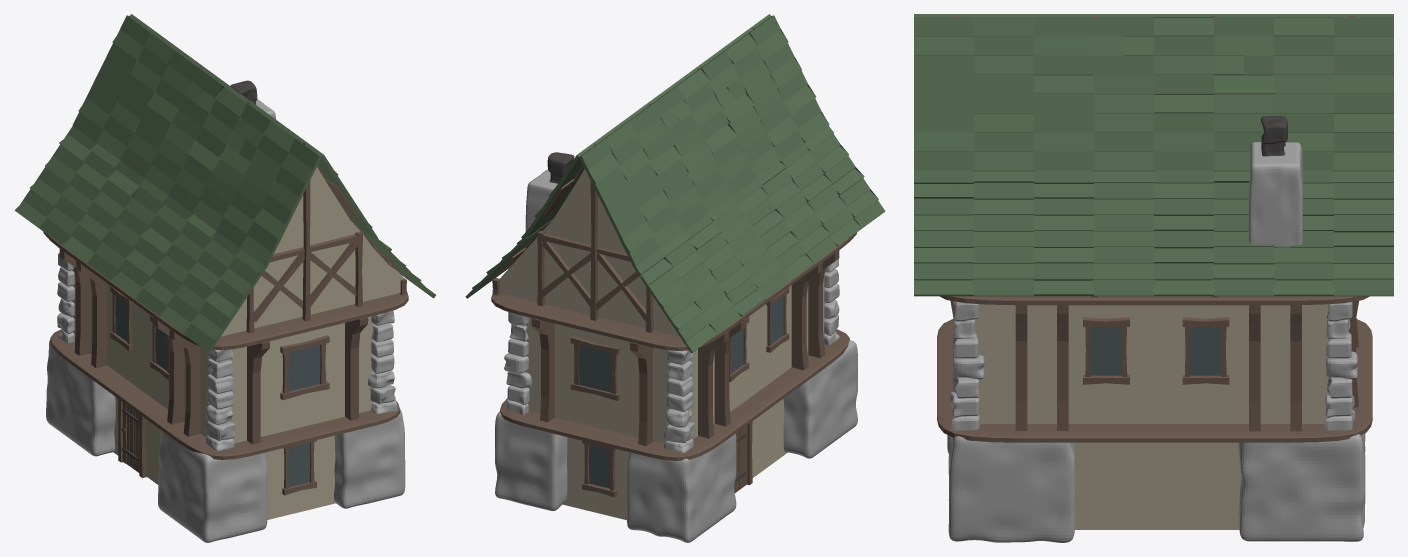
The model's file is FirstHouse.fbx.
3 views of the same model, side by side, from view 1: azimuth 30°, elevation 25°; view 2: azimuth 150°, elevation 25°; view 3: azimuth 270°, elevation 25° (orthographic). The views are drawn at different scales.
Parts seen in each view (by area): view 1: Plane.008, Plane.009, Cube, Plane.012, Cube.039, Cube.042, Cube.040, Cube.038, Cube.041, Cube.036, Cube.033, Cube.032 (+12 smaller); view 2: Plane.008, Plane.009, Cube, Plane.013, Cube.038, Cube.042, Cube.039, Cube.037, Cube.041, Cube.036, Cube.034, Cube.033 (+12 smaller); view 3: Plane.011, Plane.010, Cube, Cube.041, Cube.040, Cube.037, Cube.042, Cube.111, Cube.036, Cube.031, Cube.030, Plane.003 (+6 smaller).
Boxes of the visible parts, x1,y1,x2,y2 form: Plane.008: (72, 15, 321, 266); Plane.009: (14, 126, 268, 352); Cube: (72, 270, 374, 443); Plane.012: (221, 167, 404, 336); Cube.039: (158, 430, 267, 542); Cube.042: (50, 329, 400, 459); Cube.040: (334, 410, 405, 508); Cube.038: (46, 340, 115, 456); Cube.041: (113, 397, 335, 519); Cube.036: (43, 232, 408, 350); Cube.033: (153, 317, 200, 436); Cube.032: (59, 249, 107, 367); Plane.008: (579, 15, 829, 267); Plane.009: (632, 126, 885, 353); Cube: (525, 271, 826, 443); Plane.013: (499, 169, 679, 335); Cube.038: (627, 433, 736, 542); Cube.042: (500, 329, 849, 460); Cube.039: (783, 340, 857, 458); Cube.037: (495, 411, 567, 510); Cube.041: (562, 399, 787, 520); Cube.036: (491, 232, 856, 350); Cube.034: (531, 318, 652, 446); Cube.033: (791, 250, 839, 370); Plane.011: (914, 17, 1393, 171); Plane.010: (914, 171, 1393, 296); Cube: (975, 304, 1329, 424); Cube.041: (1074, 442, 1241, 529); Cube.040: (948, 436, 1075, 542); Cube.037: (1238, 434, 1365, 541); Cube.042: (937, 319, 1372, 442); Cube.111: (1248, 142, 1302, 248); Cube.036: (940, 296, 1369, 305); Cube.031: (1015, 305, 1068, 430); Cube.030: (1249, 305, 1301, 431); Plane.003: (1089, 327, 1122, 375).
Bounding box in the file's own units: 428 × 669 × 620.
